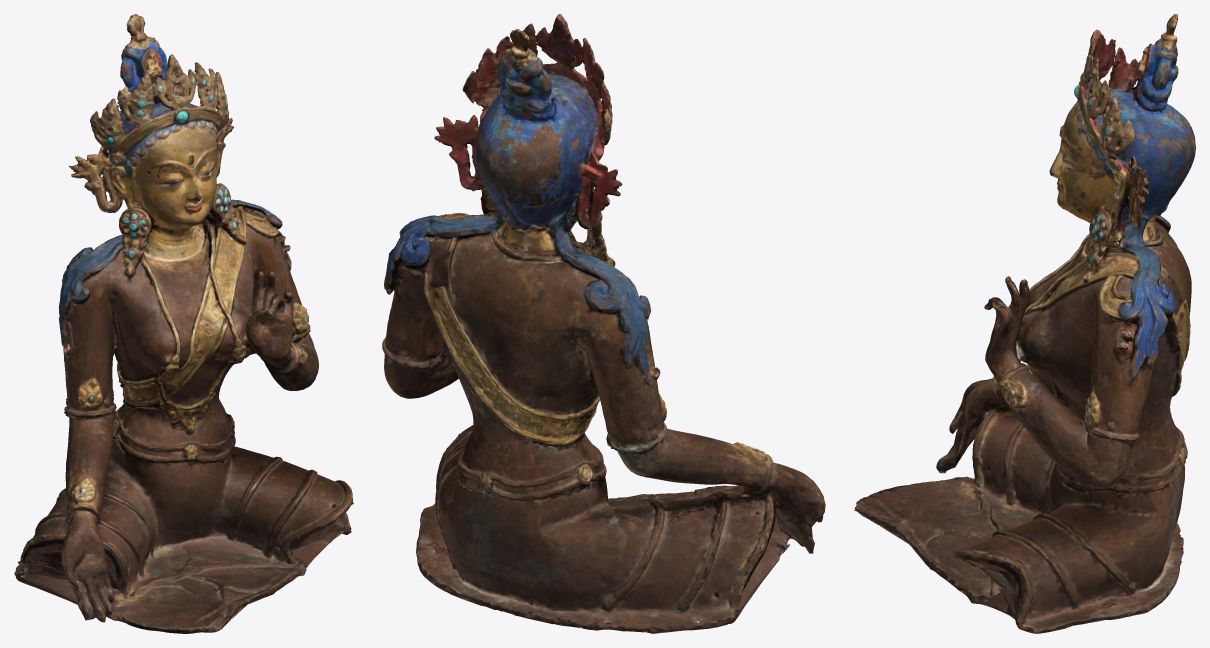
The model's file is preview.glb.
The picture shows the model from 3 angles, left to right: view 1: azimuth 30°, elevation 25°; view 2: azimuth 150°, elevation 25°; view 3: azimuth 270°, elevation 25°; orthographic projection. The views are drawn at different scales.
Visible parts, largest first — view 1: Object_2; view 2: Object_2; view 3: Object_2.
Part boxes in pixels (box(x1,y1,x2,y2)): Object_2: box(14, 14, 353, 633); Object_2: box(382, 14, 825, 633); Object_2: box(854, 14, 1195, 633).
Bounding box in the file's own units: 0.313 × 0.483 × 0.2723.
1 material, 1 textured.
